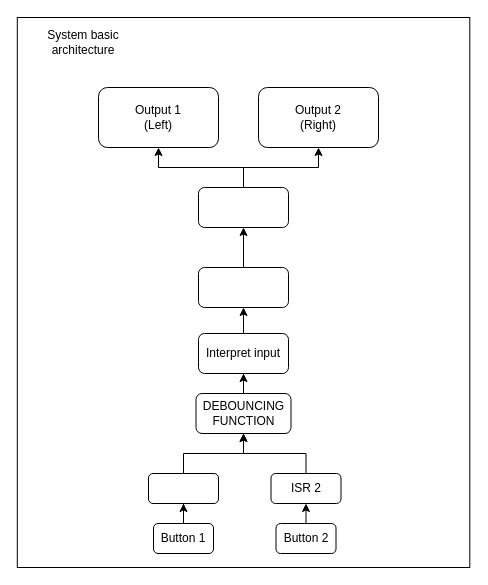
Image size: 488x585. Some labels were removed from this diagram. Here are the shapes that lost their labels. From the top down, the centre of each, then its label:
(243,207): Drive motor function
(243,287): Change motor state
(183,488): ISR 1
